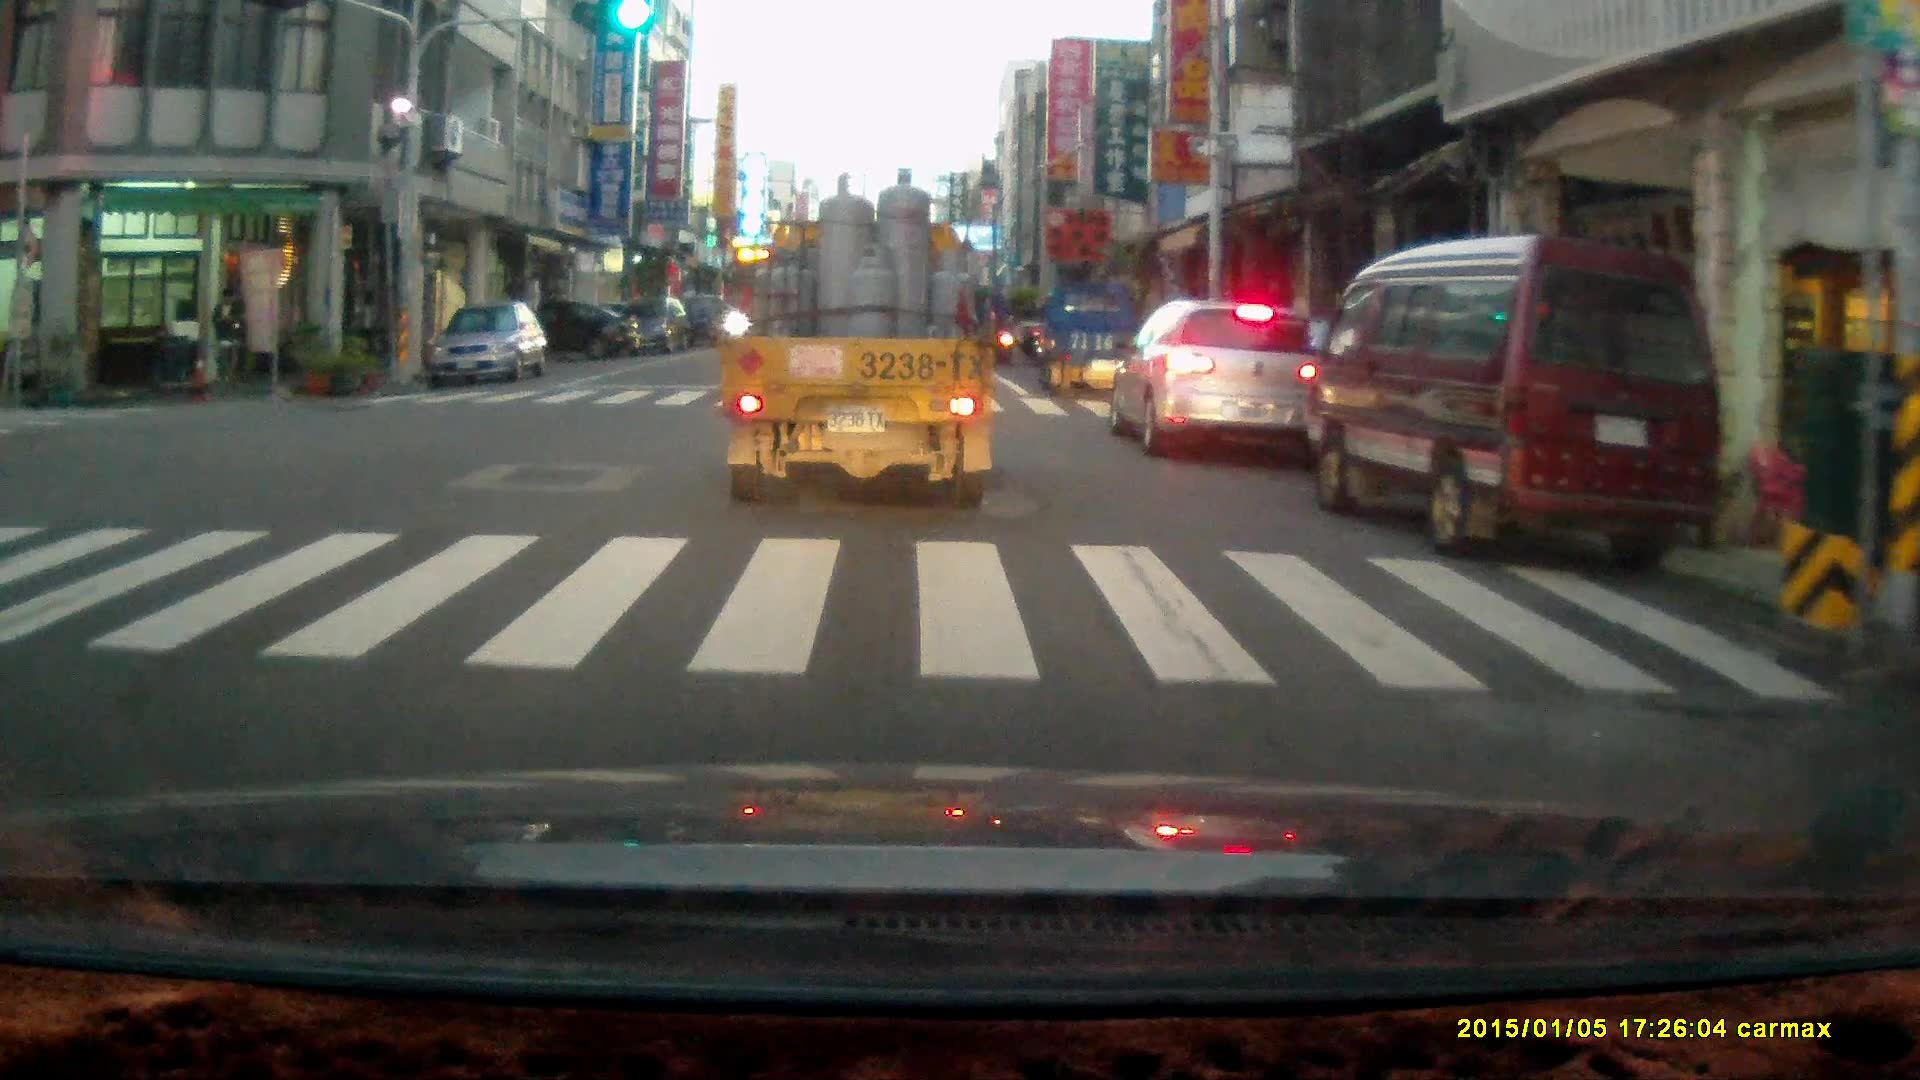pedestrian: (210, 281, 244, 395)
vehicle: (1303, 223, 1722, 571), (722, 163, 997, 512), (1111, 288, 1331, 463), (1040, 273, 1161, 402), (425, 293, 544, 385), (484, 295, 635, 361), (597, 299, 691, 356)
